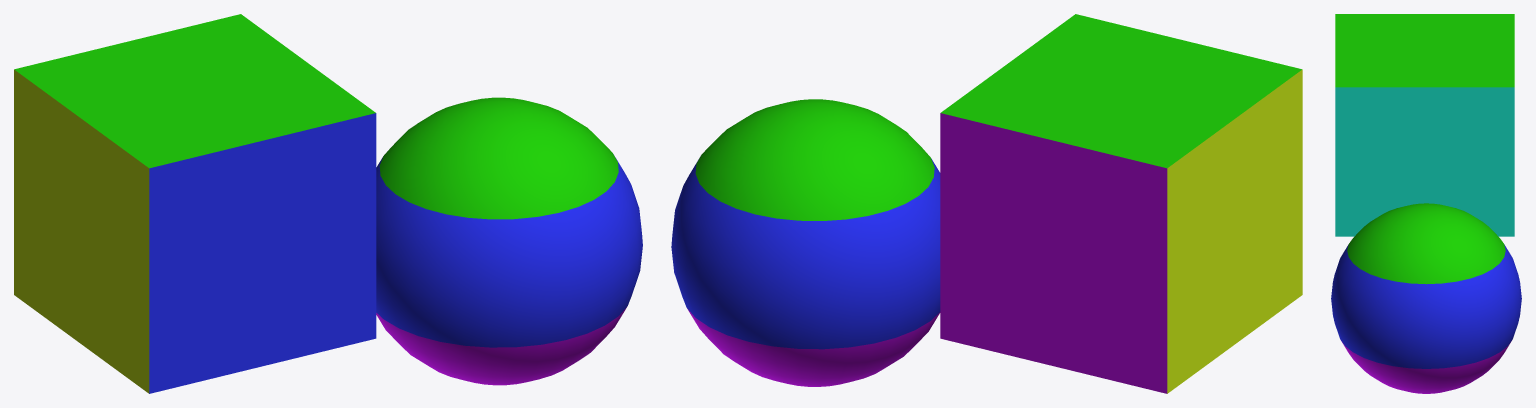
Rendered from Multi Mat.FBX.
3 views of the same model, side by side, from view 1: azimuth 30°, elevation 25°; view 2: azimuth 150°, elevation 25°; view 3: azimuth 270°, elevation 25° (orthographic). The views are drawn at different scales.
Parts seen in each view (by area): view 1: Box001, Sphere001; view 2: Box001, Sphere001; view 3: Box001, Sphere001.
Part boxes in pixels (box(x1,y1,x2,y2)): Box001: box(14, 14, 376, 393); Sphere001: box(376, 97, 642, 385); Box001: box(940, 14, 1302, 393); Sphere001: box(671, 99, 940, 386); Box001: box(1335, 14, 1514, 236); Sphere001: box(1331, 203, 1521, 393).
Bounding box in the file's own units: 128 × 80.04 × 58.68.
